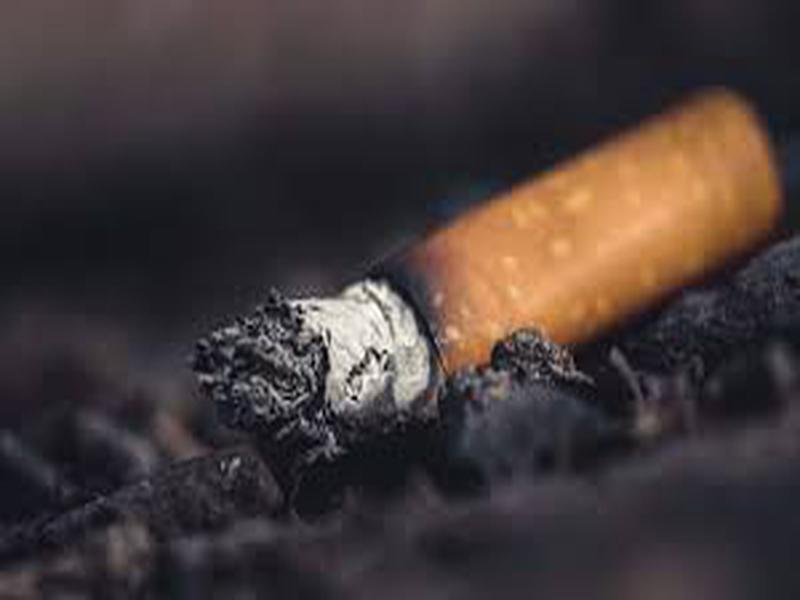burned_cigarette: (194, 84, 782, 464)
